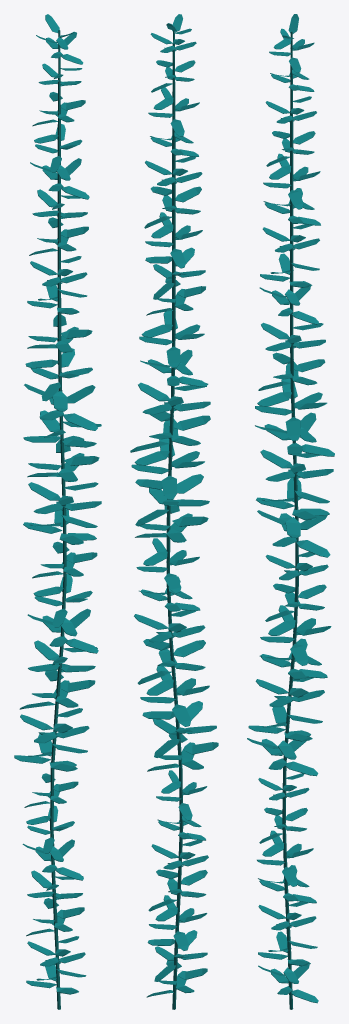
The model's file is Seaweed_022.glb.
The picture shows the model from 3 angles, left to right: view 1: azimuth 30°, elevation 25°; view 2: azimuth 150°, elevation 25°; view 3: azimuth 330°, elevation 25°; orthographic projection.
Visible parts, largest first — view 1: Seaweed_022; view 2: Seaweed_022; view 3: Seaweed_022.
Boxes of the visible parts, x1=… form: Seaweed_022: x1=14, y1=14, x2=101, y2=1009; Seaweed_022: x1=130, y1=14, x2=218, y2=1009; Seaweed_022: x1=247, y1=14, x2=334, y2=1009.
Bounding box in the file's own units: 0.7586 × 9.48 × 0.6732.
1 material, 1 textured.
